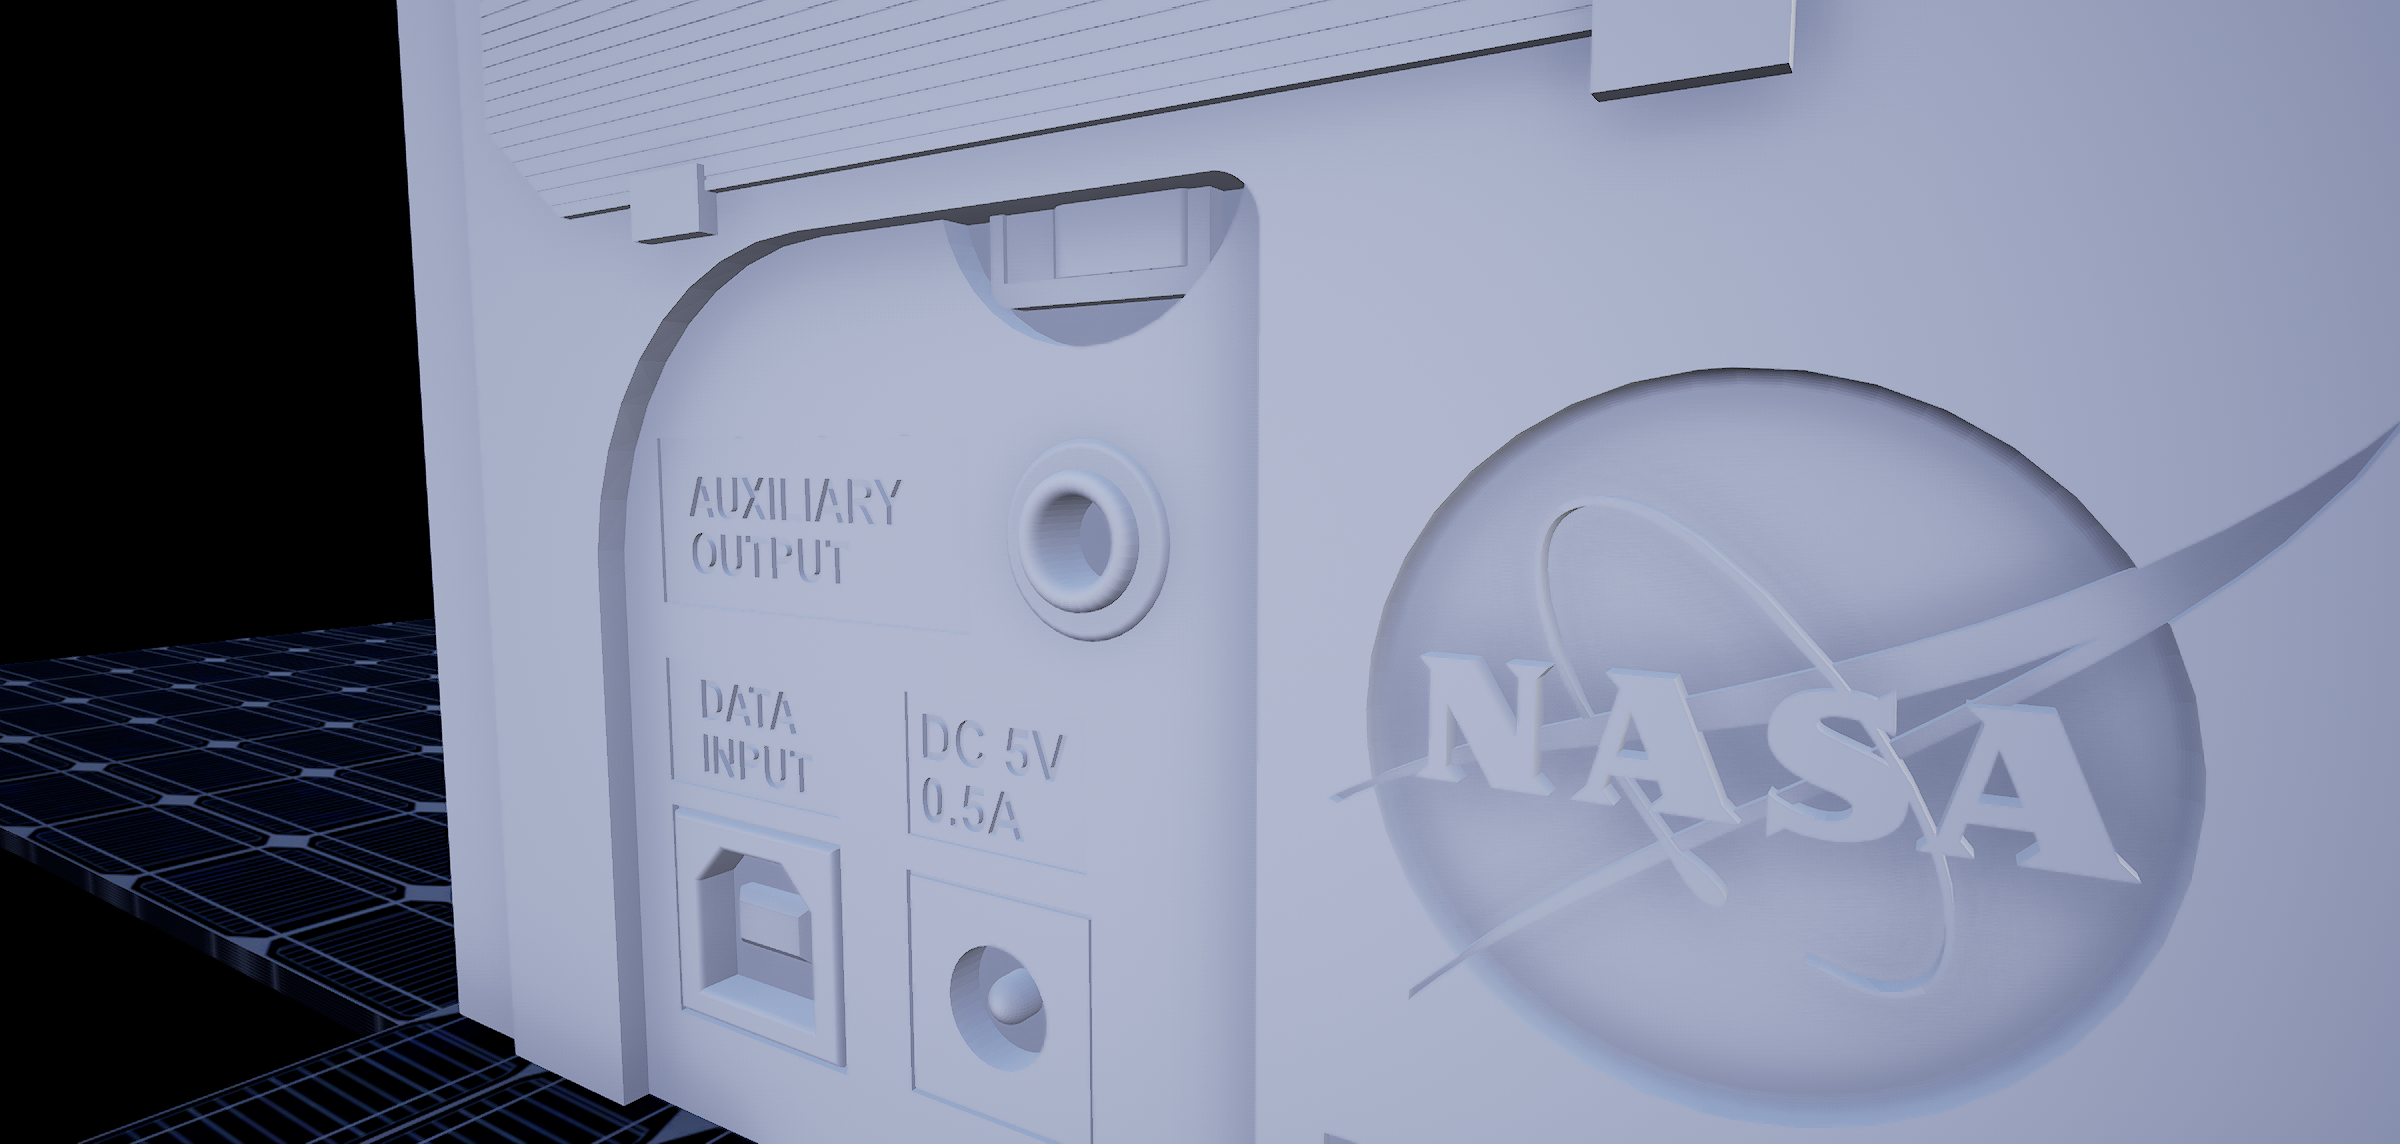aux: (990, 438, 1188, 666)
dc: (931, 920, 1068, 1097)
usb: (683, 841, 836, 1029)
